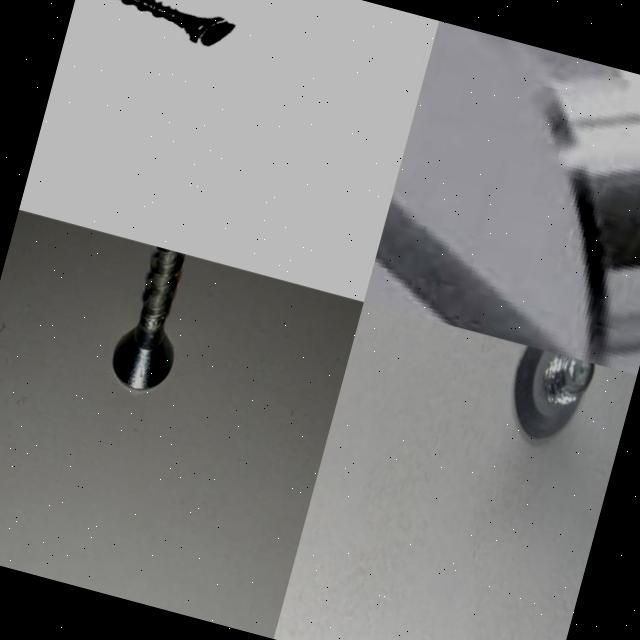Screw: (363, 20, 640, 375), (71, 0, 259, 61), (112, 246, 185, 389), (515, 346, 595, 438)
